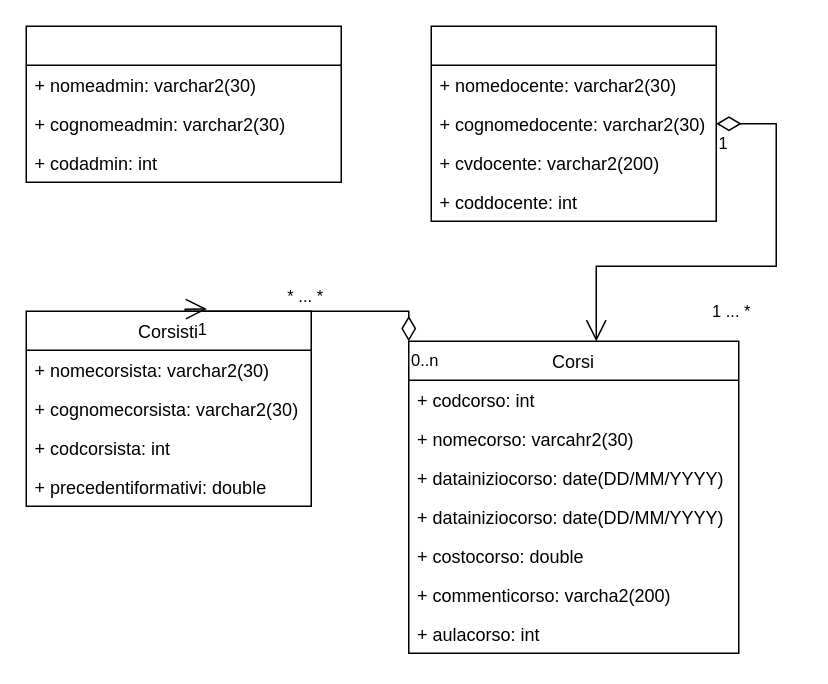
Image size: 828x684. Some labels were removed from this diagram. Each missing label, with the box of its shape:
Amministratori: (25, 25, 341, 182)
Docenti: (430, 25, 716, 221)
